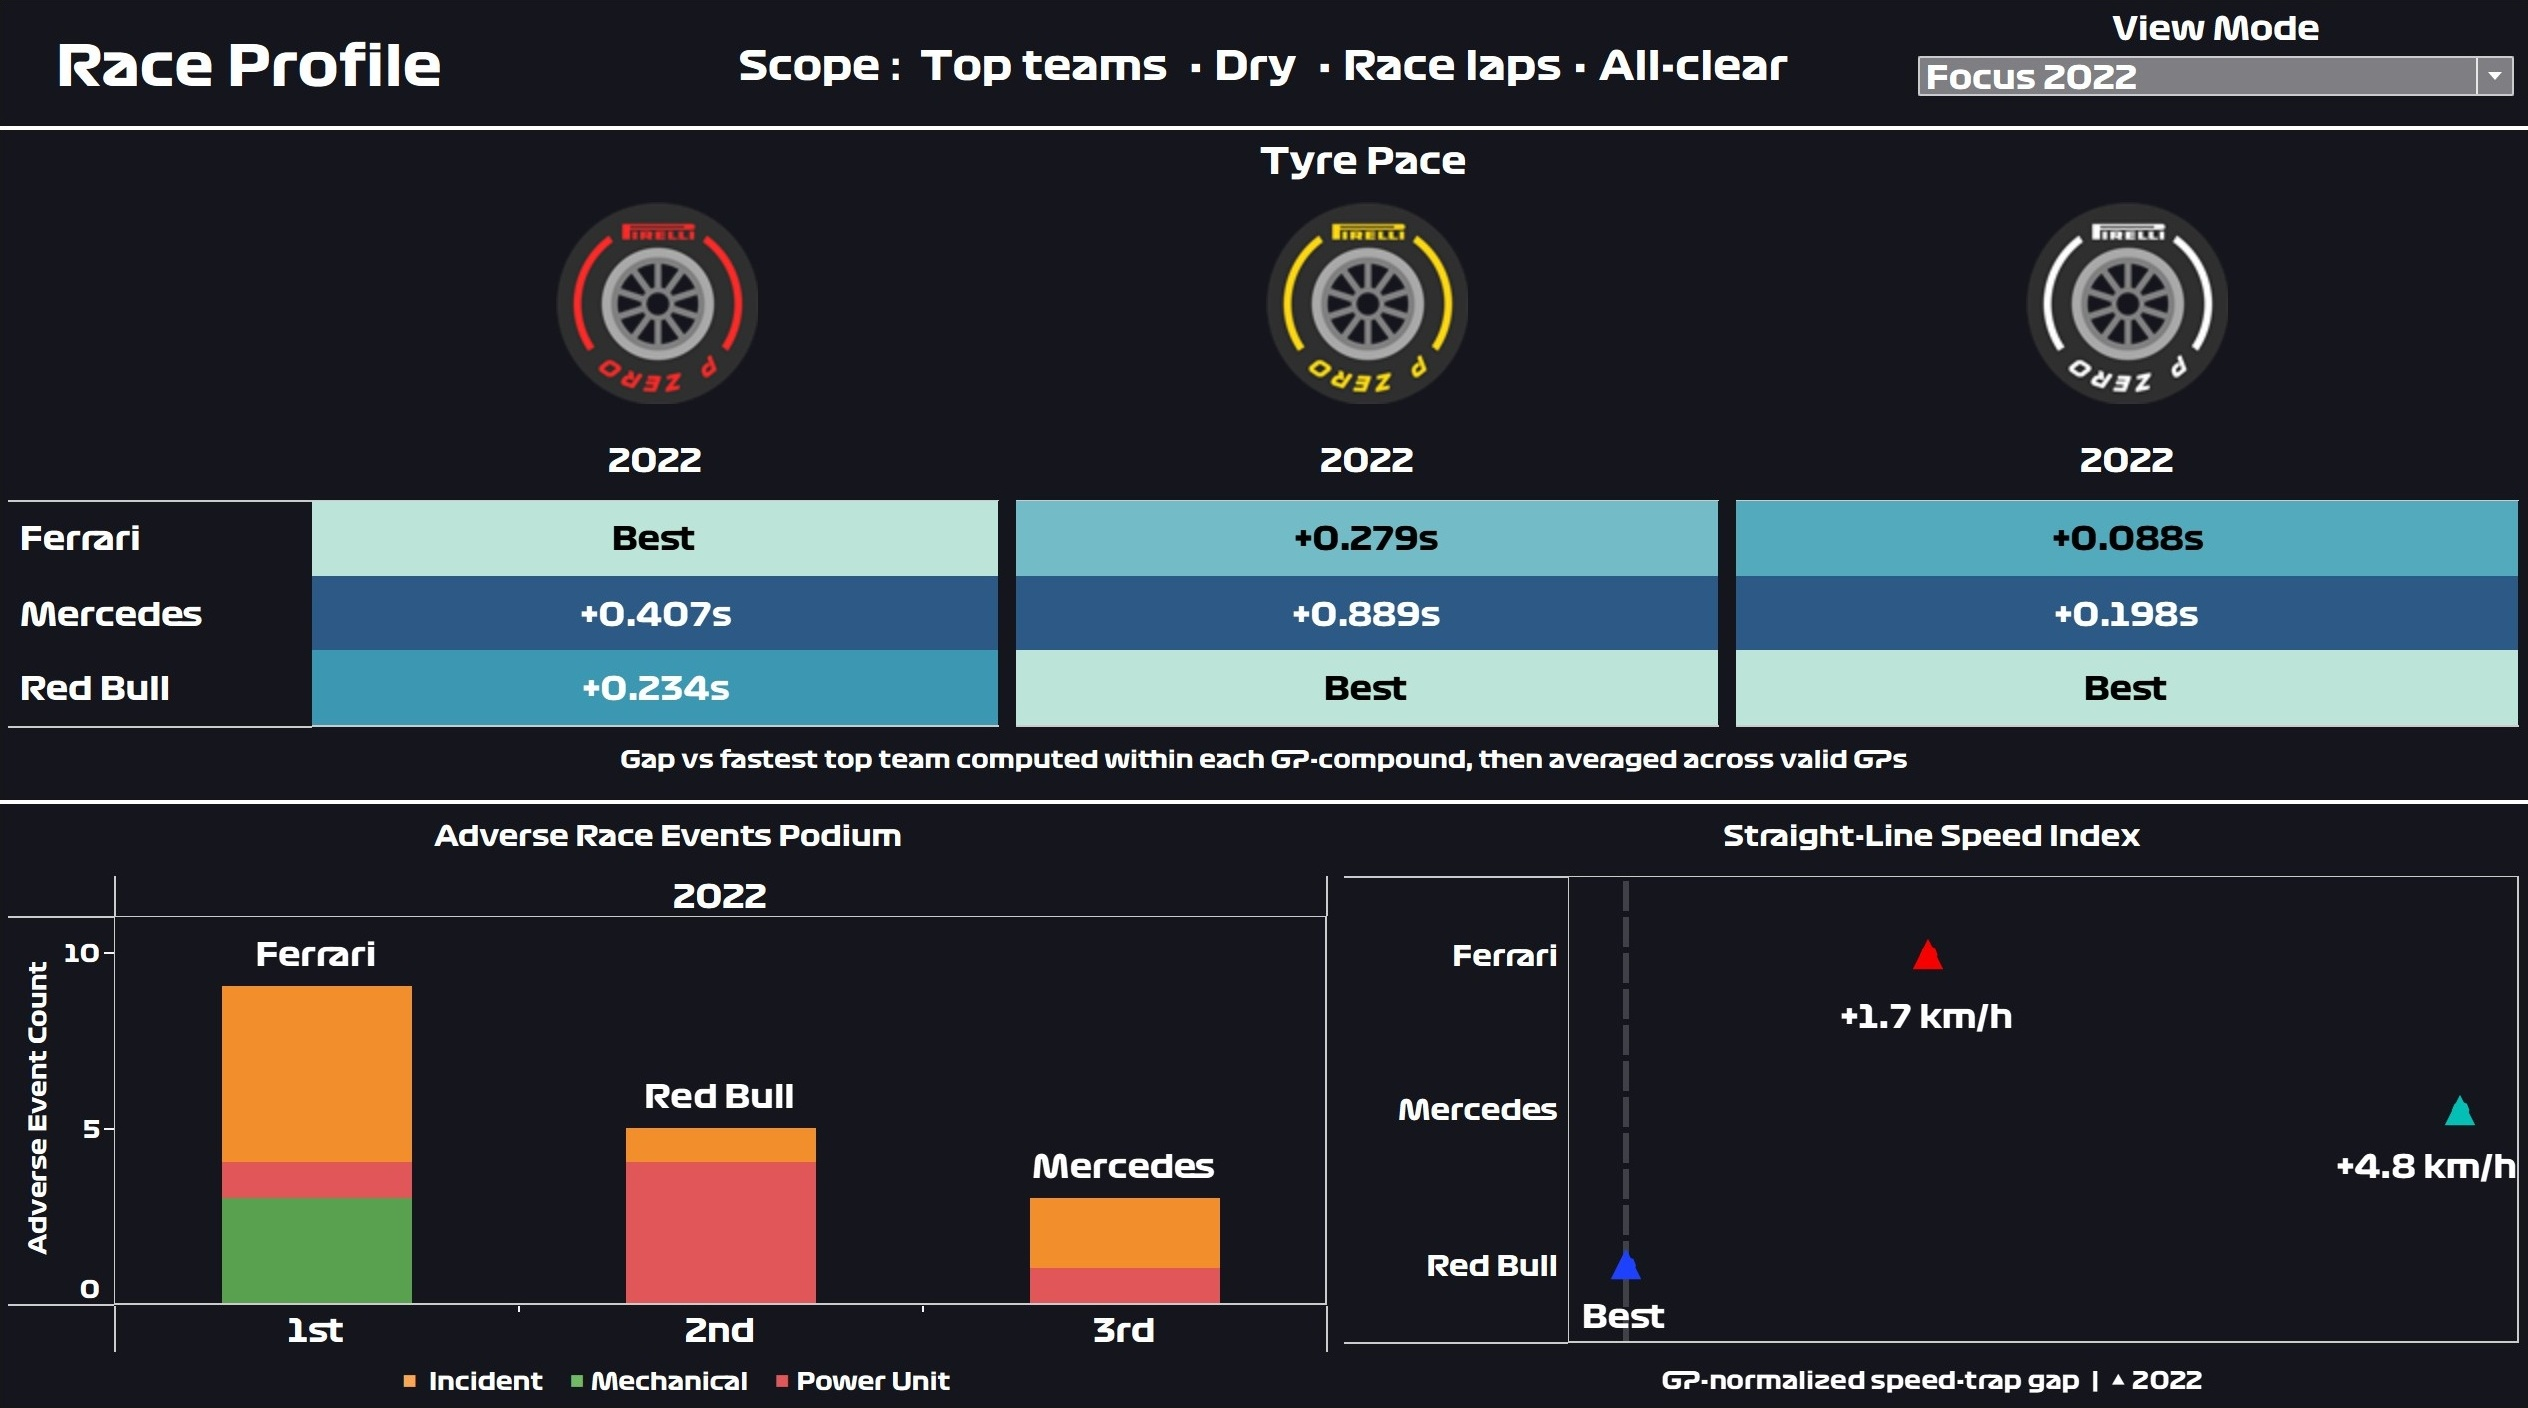

The dashboard page shown, as its layout file describes it:
{"tool":"tableau","page":{"name":"Compound & Speed","canvas":[1280,720],"ordinal":2},"visuals":[{"type":"text","box":[8,8,361,63]},{"type":"text","box":[369,8,591,63]},{"type":"parameter","param":"[Parameters].[Parameter 4]","box":[960,8,312,63]},{"type":"text","box":[8,73,1264,23]},{"type":"blank","box":[8,98,153,109]},{"type":"image","param":"Image/soft_tyre.png","box":[161,98,351,109]},{"type":"image","param":"Image/medium_tyre.png","box":[512,98,360,109]},{"type":"image","param":"Image/hard_tyre.png","box":[872,98,400,109]},{"type":"worksheet","title":"Tyre Pace — Soft","mark":"Square","rows":["team_name"],"cols":["season_year"],"box":[8,207,504,162]},{"type":"worksheet","title":"Tyre Pace — Medium","mark":"Square","rows":["team_name"],"cols":["season_year"],"box":[512,207,360,162]},{"type":"worksheet","title":"Tyre Pace — Hard","mark":"Square","rows":["team_name"],"cols":["season_year"],"box":[872,207,400,162]},{"type":"text","box":[8,369,1264,18]},{"type":"worksheet","title":"Adverse Race Events Podium","mark":"Text","rows":["Calculation_3198775210897408","Calculation_1434608050249745"],"cols":["season_year"],"box":[8,403,668,309]},{"type":"worksheet","title":"Straight-Line Speed Index","mark":"Line","rows":["team_name"],"box":[676,403,596,281]},{"type":"worksheet","title":"Speed Shape Legend","mark":"Automatic","box":[676,684,596,28]}]}

Visuals, with their boxes in screenshot pixels (x1, y1, x2, y2), scaled from the page's 1280x720 canvas onto the 2528x1408 screenshot:
text: 16/16/729/139
text: 729/16/1896/139
parameter: 1896/16/2512/139
text: 16/143/2512/188
blank: 16/192/318/405
image: 318/192/1011/405
image: 1011/192/1722/405
image: 1722/192/2512/405
"Tyre Pace — Soft" worksheet (Square marks): 16/405/1011/722
"Tyre Pace — Medium" worksheet (Square marks): 1011/405/1722/722
"Tyre Pace — Hard" worksheet (Square marks): 1722/405/2512/722
text: 16/722/2512/757
"Adverse Race Events Podium" worksheet (Text marks): 16/788/1335/1392
"Straight-Line Speed Index" worksheet (Line marks): 1335/788/2512/1338
"Speed Shape Legend" worksheet: 1335/1338/2512/1392
